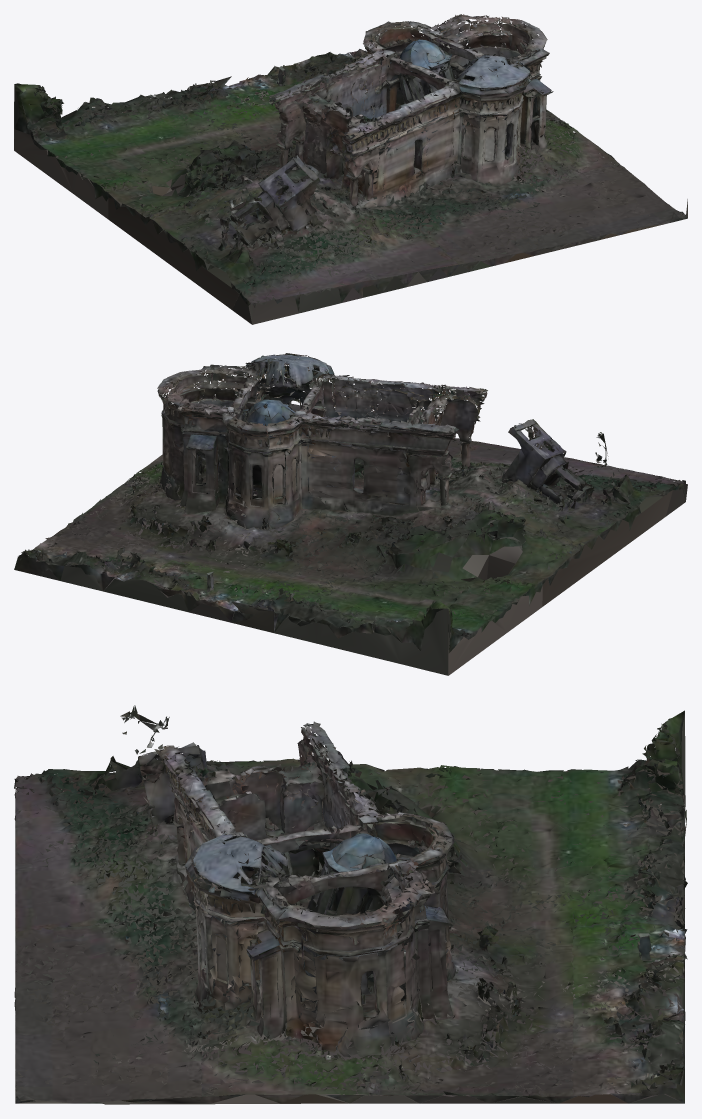
Rendered from ruin-church-scan.glb.
The picture shows the model from 3 angles, top to bottom: view 1: azimuth 30°, elevation 25°; view 2: azimuth 150°, elevation 25°; view 3: azimuth 270°, elevation 25°; orthographic projection. The views are drawn at different scales.
Parts seen in each view (by area): view 1: church; view 2: church; view 3: church.
Boxes of the visible parts, box(x1,y1,x2,y2) form: church: box(14, 14, 687, 324); church: box(14, 353, 687, 675); church: box(14, 705, 687, 1104).
Size of the model in its own units: 34.93 by 9.68 by 32.87.
Materials: 1 (1 with a texture image).
